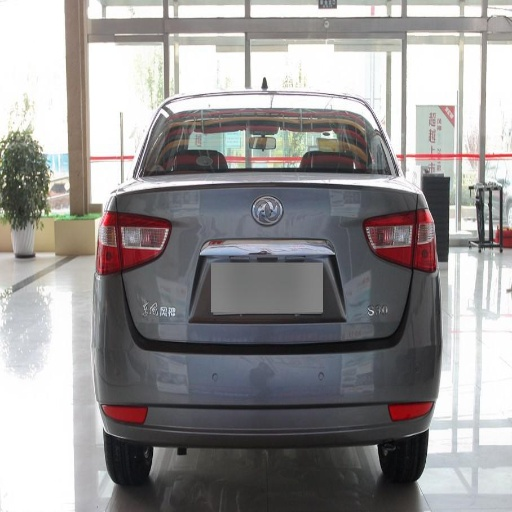back_bumper: (96, 270, 459, 442)
tailgate: (225, 164, 412, 345), (134, 307, 192, 346)
trunk: (117, 174, 349, 393)
